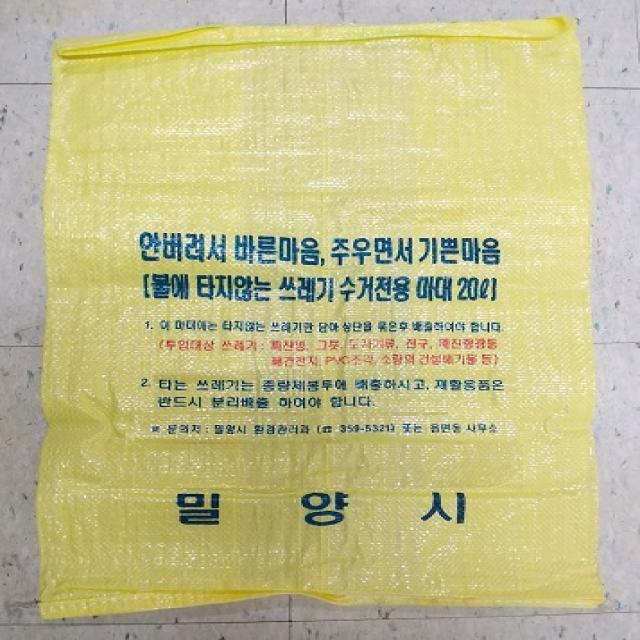PP bag: (36, 15, 611, 622)
